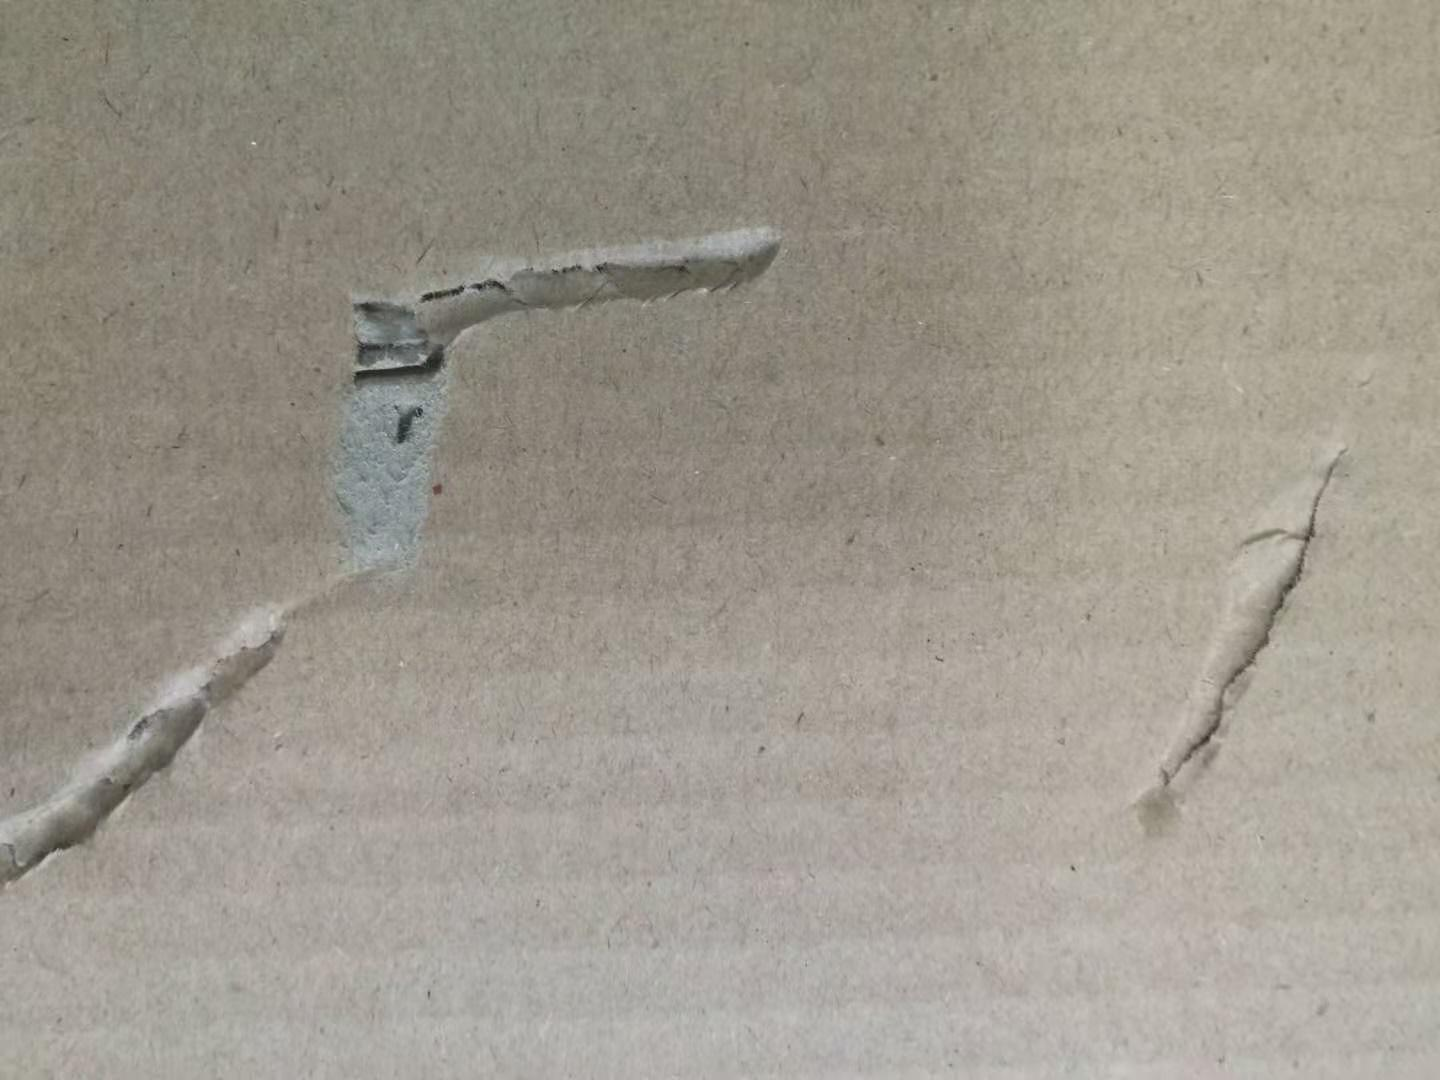defect: (295, 201, 805, 615), (1101, 331, 1397, 857), (1, 547, 357, 912)
